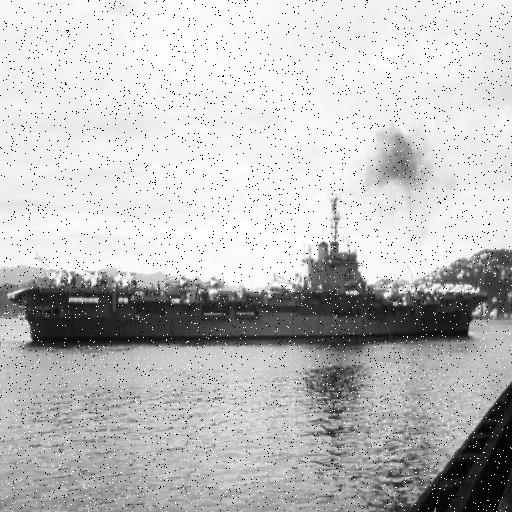Portanaves: (9, 191, 490, 356)
